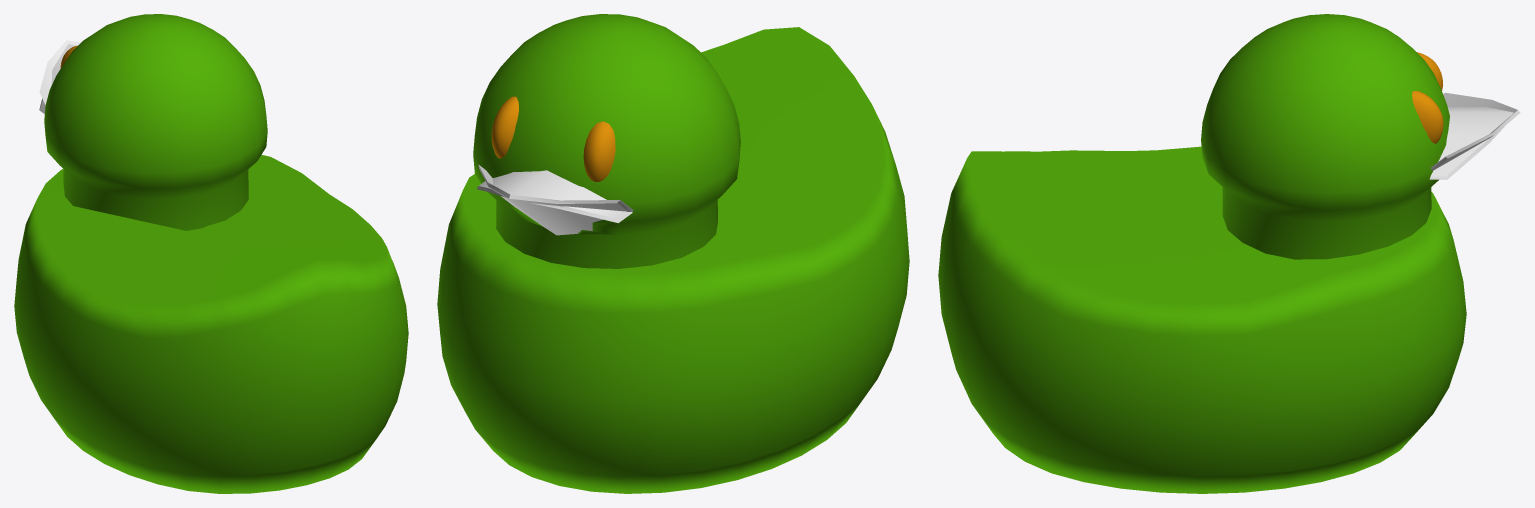
Rendered from ducky_weird.fbx.
3 views of the same model, side by side, from view 1: azimuth 30°, elevation 25°; view 2: azimuth 150°, elevation 25°; view 3: azimuth 270°, elevation 25° (orthographic). The views are drawn at different scales.
Parts seen in each view (by area): view 1: pSphere5; view 2: pSphere5; view 3: pSphere5.
Boxes of the visible parts, <box> form: pSphere5: <box>14,14,408,493</box>; pSphere5: <box>437,14,909,493</box>; pSphere5: <box>938,14,1520,493</box>.
Size of the model in its own units: 1.91 by 2.04 by 2.7.
